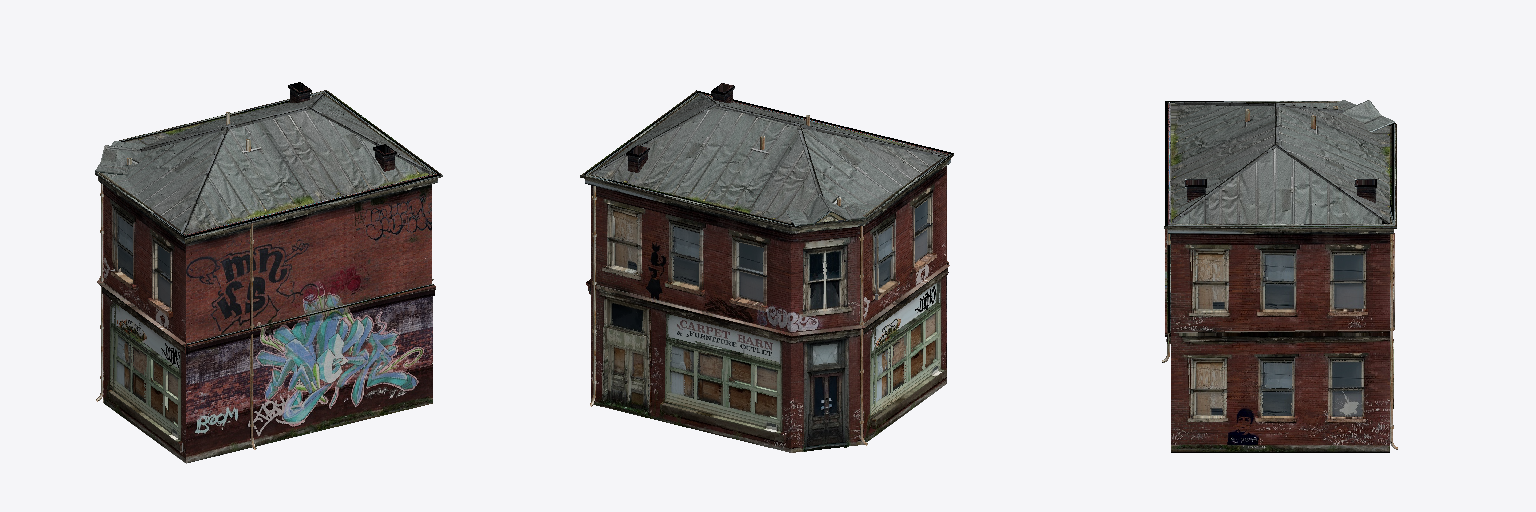
3 renders of one model, left to right at view 1: azimuth 30°, elevation 25°; view 2: azimuth 150°, elevation 25°; view 3: azimuth 270°, elevation 25°, orthographic.
Visible parts, largest first — view 1: house; view 2: house; view 3: house.
Part boxes in pixels (left/top/right/bottom): house: left=95, top=82, right=442, bottom=463; house: left=580, top=83, right=953, bottom=452; house: left=1162, top=100, right=1397, bottom=452.
Bounding box in the file's own units: 165 × 168 × 130.
Materials: 3 (1 with a texture image).